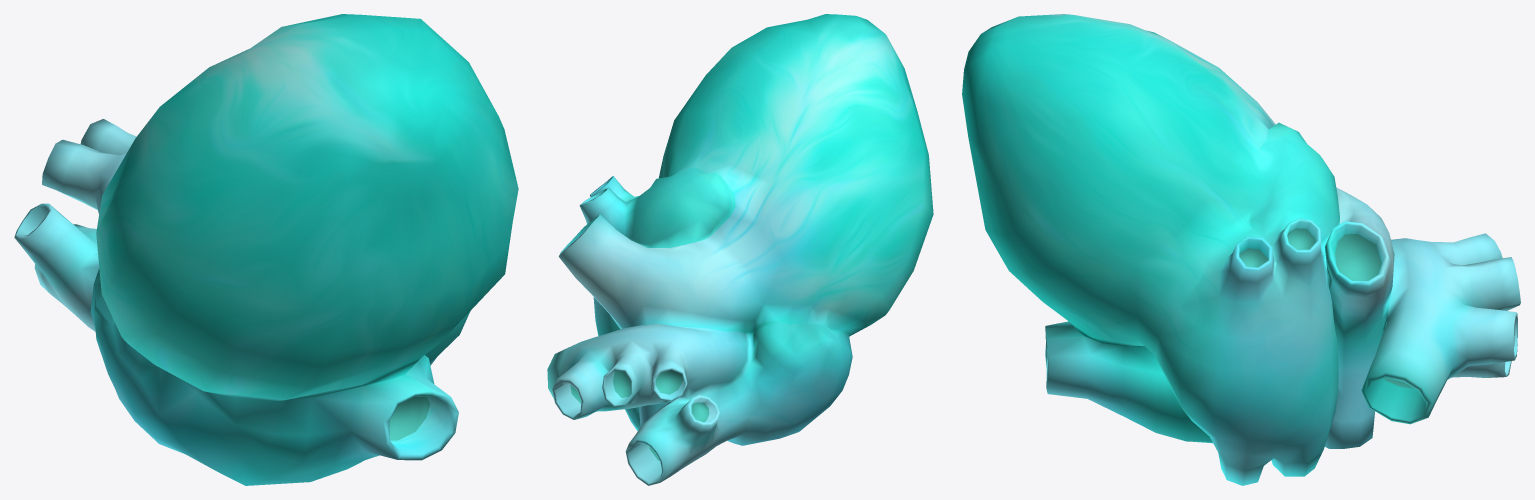
The model's file is Heart.fbx.
3 renders of one model, left to right at view 1: azimuth 30°, elevation 25°; view 2: azimuth 150°, elevation 25°; view 3: azimuth 270°, elevation 25°, orthographic. The views are drawn at different scales.
Parts seen in each view (by area): view 1: heart 1; view 2: heart 1; view 3: heart 1.
Part boxes in pixels (box(x1,y1,x2,y2)): heart 1: box(14, 14, 518, 485); heart 1: box(547, 14, 933, 485); heart 1: box(962, 14, 1520, 485).
Size of the model in its own units: 194 by 237 by 292.
